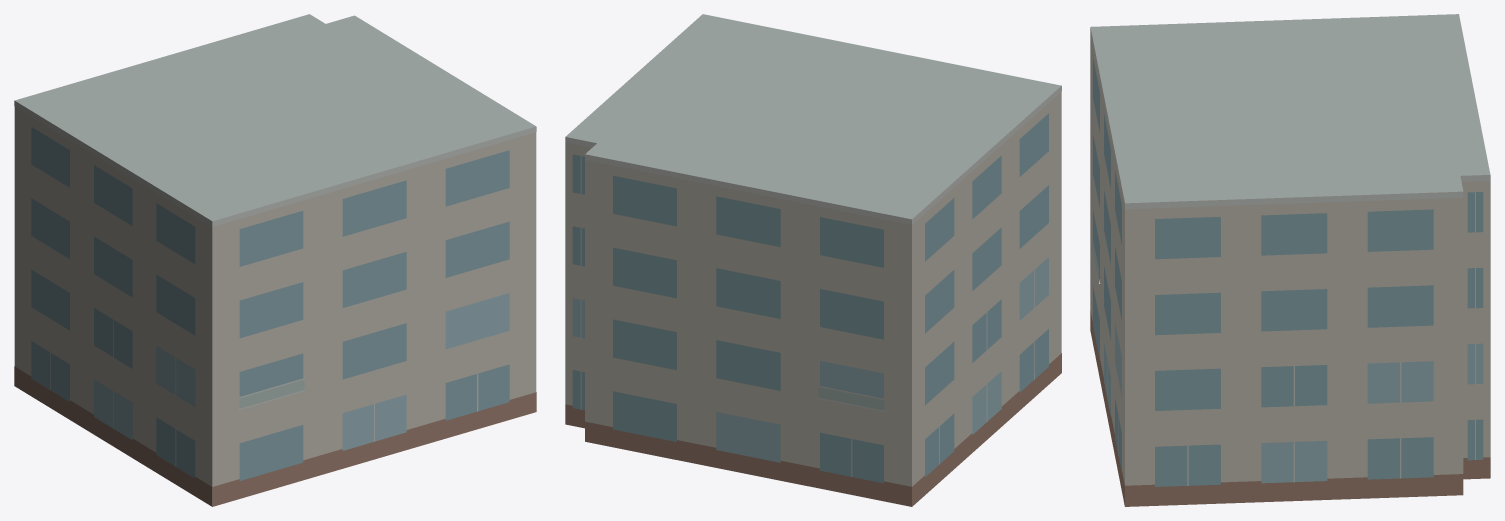
The model's file is survey-upis-32537761.glb.
The picture shows the model from 3 angles, left to right: view 1: azimuth 30°, elevation 25°; view 2: azimuth 150°, elevation 25°; view 3: azimuth 270°, elevation 25°; orthographic projection. The views are drawn at different scales.
Visible parts, largest first — view 1: survey-upis-32537761.tmp; view 2: survey-upis-32537761.tmp; view 3: survey-upis-32537761.tmp.
Part boxes in pixels (box(x1,y1,x2,y2)): survey-upis-32537761.tmp: box(14, 14, 536, 506); survey-upis-32537761.tmp: box(565, 14, 1061, 506); survey-upis-32537761.tmp: box(1090, 14, 1490, 506).
Bounding box in the file's own units: 16.33 × 12.2 × 14.58.
